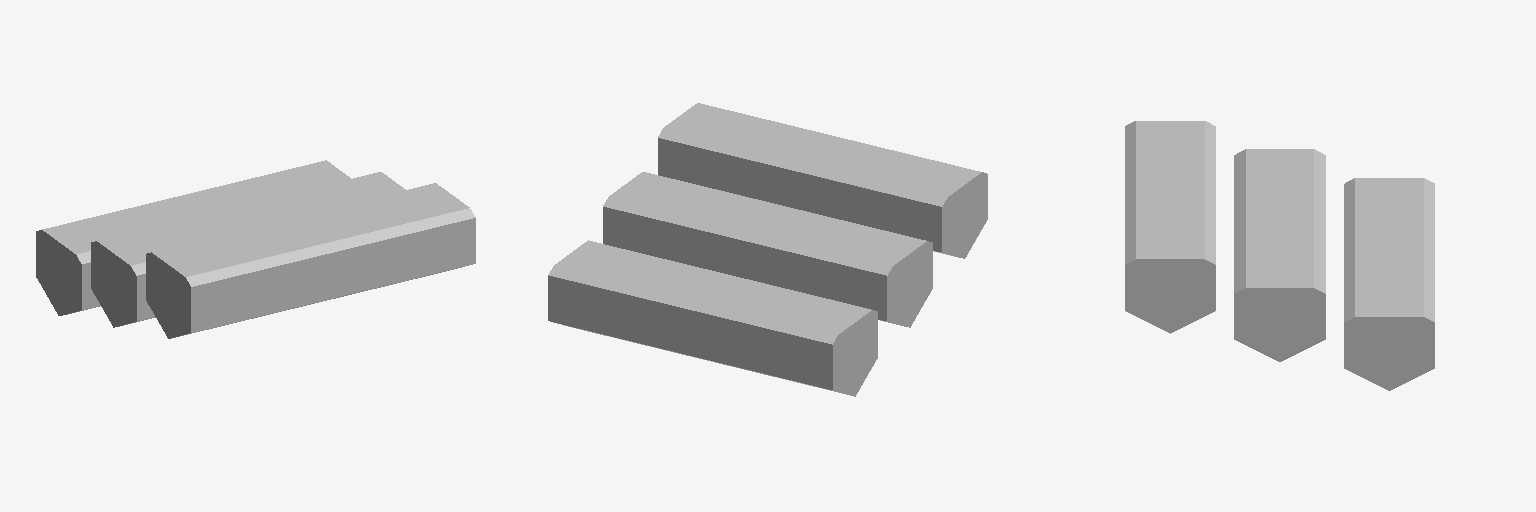
File: Prop_Bridge_Log_End.obj
The picture shows the model from 3 angles: view 1: azimuth 30°, elevation 25°; view 2: azimuth 150°, elevation 25°; view 3: azimuth 270°, elevation 25°; orthographic projection.
Parts seen in each view (by area): view 1: object3, object1, object2; view 2: object2, object1, object3; view 3: object1, object2, object3.
Boxes of the visible parts, x1=… form: object3: x1=146, y1=183, x2=475, y2=338; object1: x1=91, y1=172, x2=405, y2=327; object2: x1=36, y1=160, x2=350, y2=315; object2: x1=548, y1=240, x2=877, y2=396; object1: x1=603, y1=172, x2=932, y2=327; object3: x1=658, y1=103, x2=987, y2=258; object1: x1=1234, y1=149, x2=1325, y2=361; object2: x1=1344, y1=178, x2=1434, y2=390; object3: x1=1125, y1=121, x2=1215, y2=333.
Bounding box in the file's own units: 1 × 0.4431 × 0.9444.